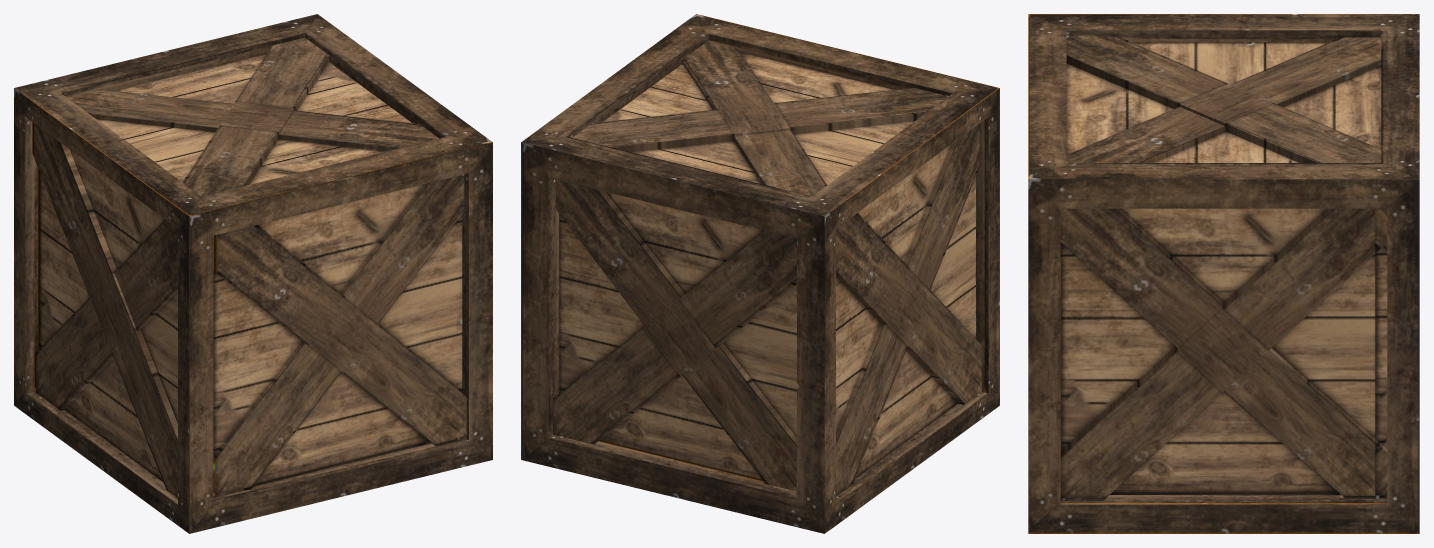
File: modele.glb
The picture shows the model from 3 angles, left to right: view 1: azimuth 30°, elevation 25°; view 2: azimuth 150°, elevation 25°; view 3: azimuth 270°, elevation 25°; orthographic projection. The views are drawn at different scales.
Parts seen in each view (by area): view 1: Cube; view 2: Cube; view 3: Cube.
Part boxes in pixels (<box>): Cube: <box>14,14,492,533</box>; Cube: <box>521,14,999,533</box>; Cube: <box>1028,14,1419,533</box>.
Size of the model in its own units: 1.59 by 1.59 by 1.59.
1 material, 1 textured.
